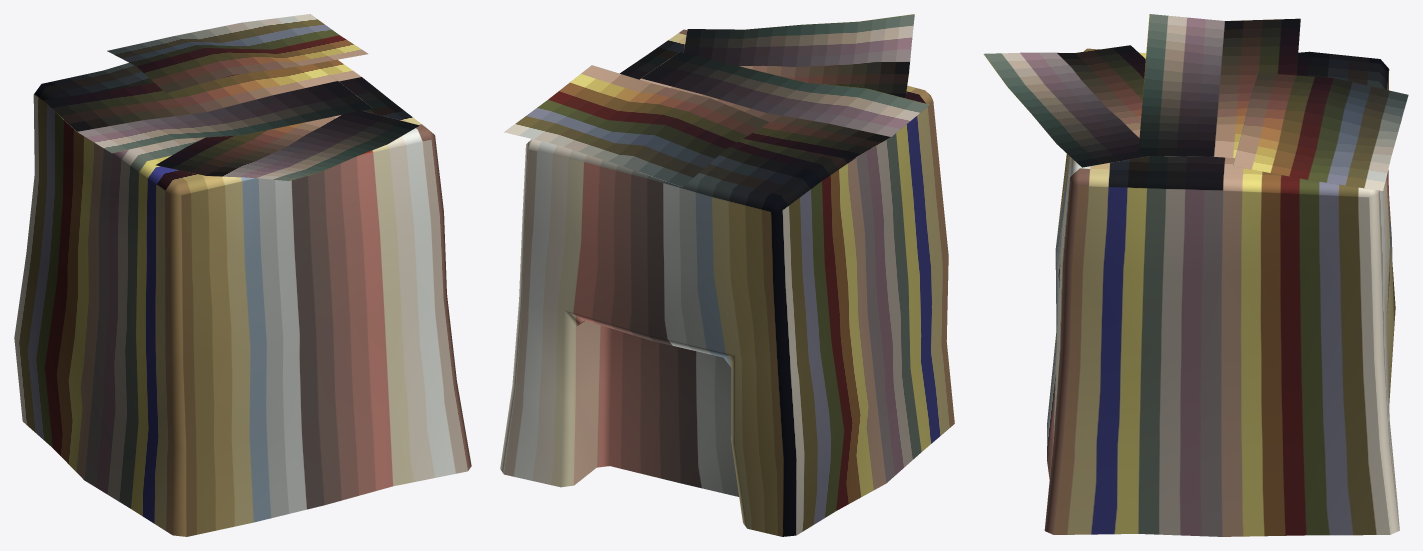
The model's file is MSH_Building_Hole_003.glb.
3 views of the same model, side by side, from view 1: azimuth 30°, elevation 25°; view 2: azimuth 150°, elevation 25°; view 3: azimuth 270°, elevation 25° (orthographic). The views are drawn at different scales.
Parts seen in each view (by area): view 1: Base.004; view 2: Base.004; view 3: Base.004.
Part boxes in pixels (bbox=[...]): Base.004: bbox=[14, 14, 471, 536]; Base.004: bbox=[500, 14, 954, 536]; Base.004: bbox=[983, 14, 1408, 536].
Size of the model in its own units: 5.59 by 6.12 by 6.33.
1 material, 1 textured.
